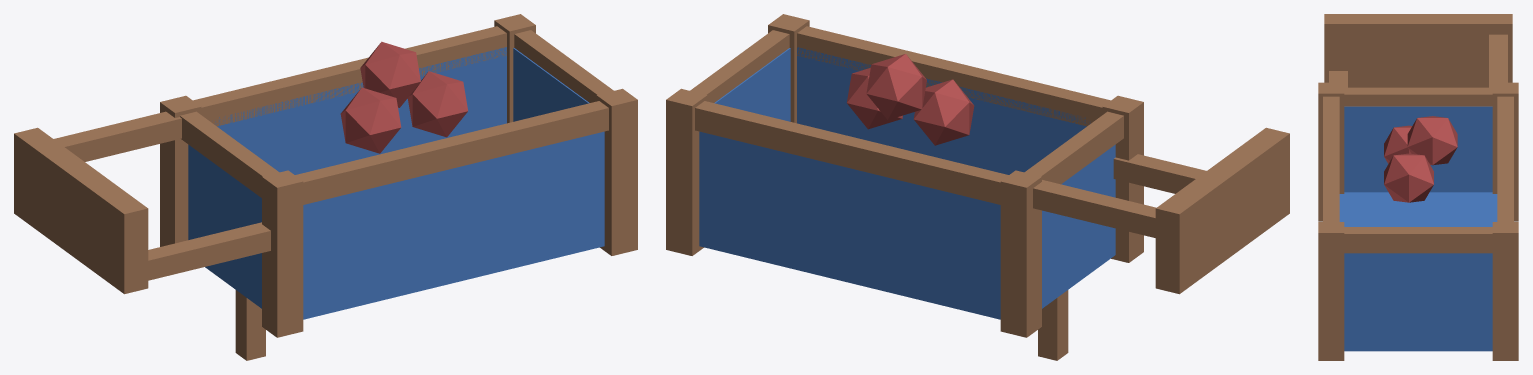
File: cart_body.glb
3 views of the same model, side by side, from view 1: azimuth 30°, elevation 25°; view 2: azimuth 150°, elevation 25°; view 3: azimuth 270°, elevation 25° (orthographic). The views are drawn at different scales.
Visible parts, largest first — view 1: Cart; view 2: Cart; view 3: Cart.
Part boxes in pixels (left/top/right/bottom): Cart: left=14, top=14, right=637, bottom=360; Cart: left=666, top=14, right=1289, bottom=360; Cart: left=1318, top=14, right=1518, bottom=360.
Size of the model in its own units: 2.13 by 1.06 by 0.85.
